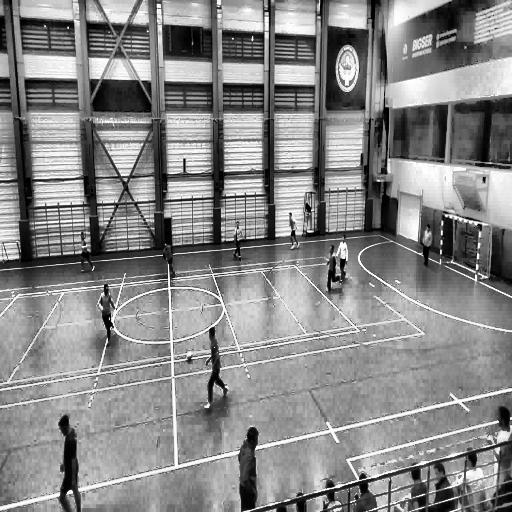ball: (186, 352, 192, 362)
player: (58, 414, 82, 510), (204, 326, 229, 408), (99, 284, 116, 346), (325, 245, 342, 295), (163, 241, 176, 279), (337, 234, 347, 281), (422, 224, 432, 268), (288, 212, 298, 250), (233, 222, 242, 259)
